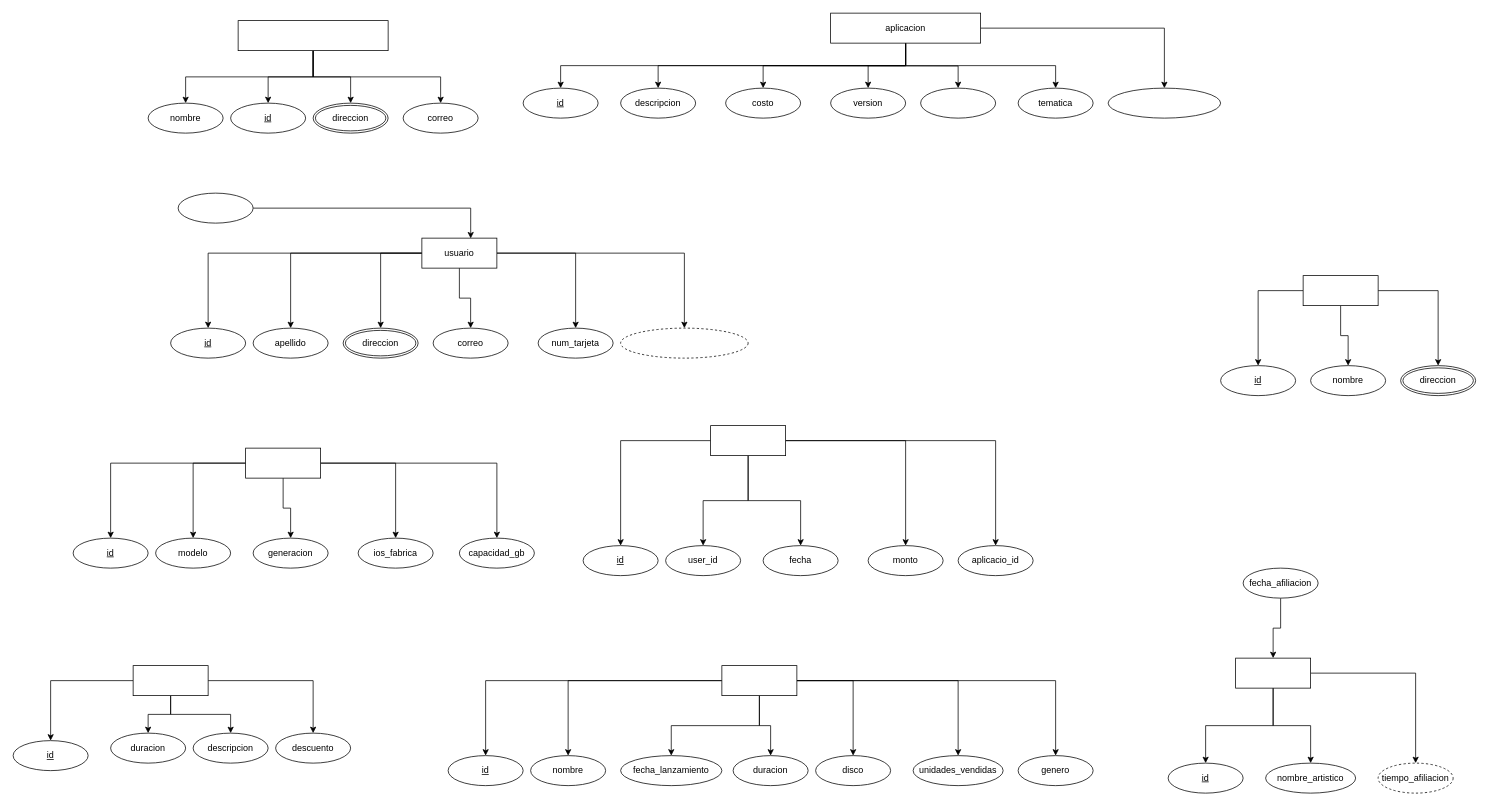
This 1489x806 diagram has some shape labels left out. Here are the shapes that lost their labels. From the top down, the centre of each, then its label:
At point 312,35: "desarrollador_compañia".
At point 958,102: "peso_mb".
At point 1164,102: "dispositivo_compatible".
At point 215,207: "fecha_creacion".
At point 1340,290: "casa_disquera".
At point 684,342: "fecha_vencimiento_vvt".
At point 748,440: "venta".
At point 283,462: "dispositivo".
At point 170,680: "promocion".
At point 759,680: "cancion".
At point 1273,672: "artista".
